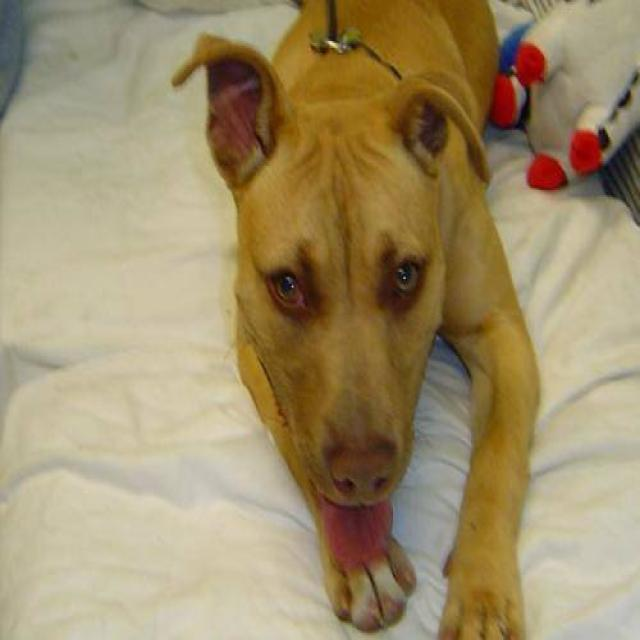dog: (170, 0, 542, 638)
